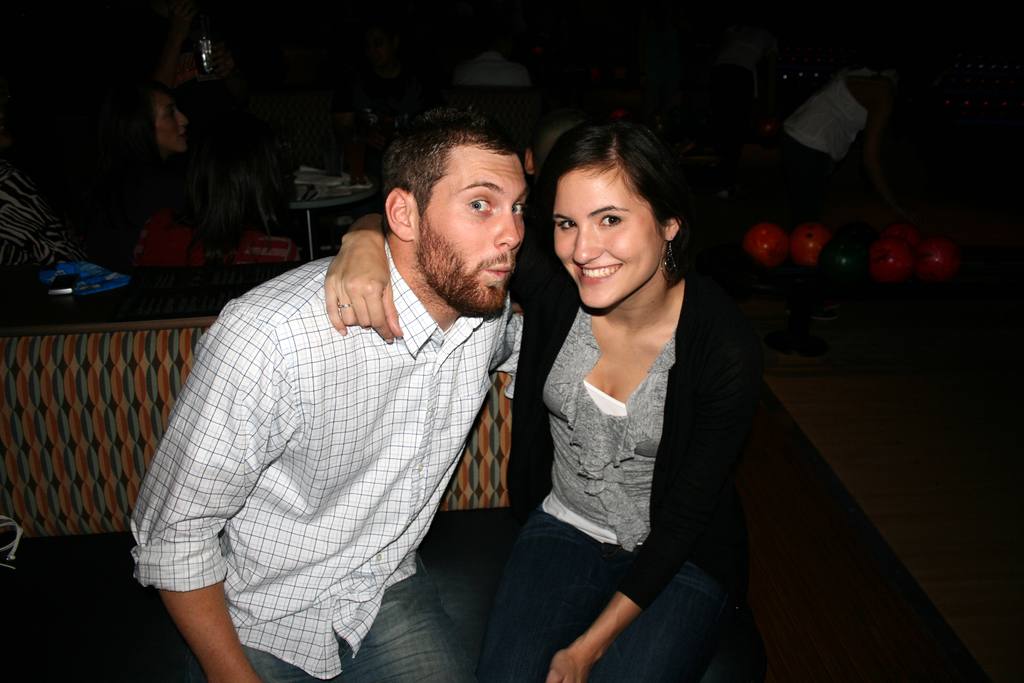Human-face: (418, 150, 524, 318), (556, 170, 664, 309), (158, 94, 186, 156)
